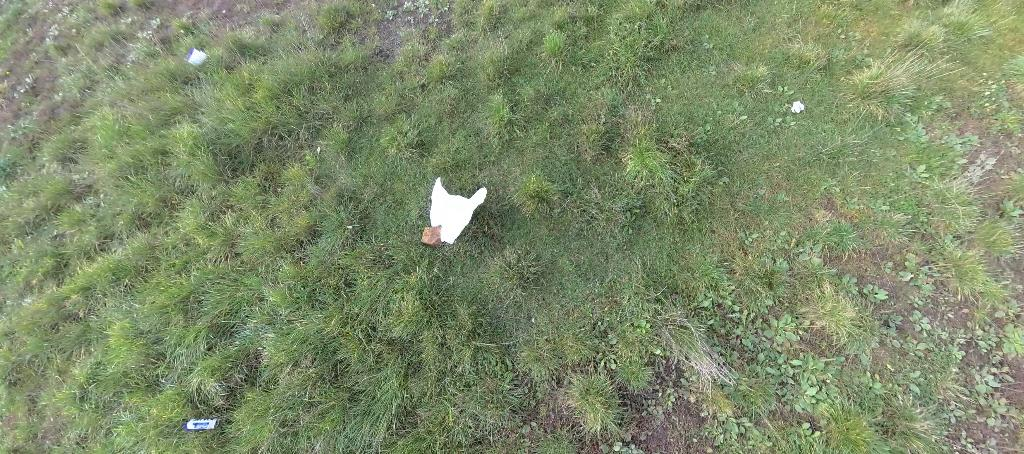garbage: (421, 174, 492, 248), (429, 176, 488, 245), (185, 46, 211, 68), (186, 418, 220, 432), (789, 102, 805, 114)
